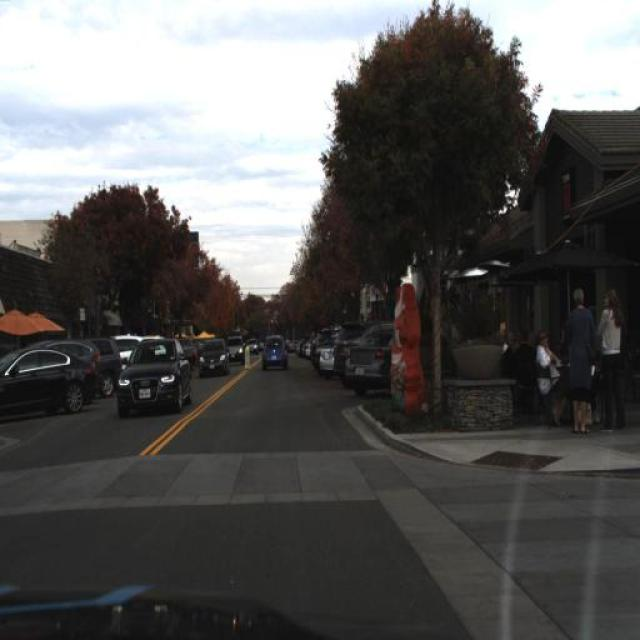car: (0, 344, 99, 417), (114, 334, 192, 418), (340, 322, 398, 400), (346, 316, 392, 400), (197, 338, 232, 378), (258, 334, 290, 374), (228, 331, 246, 370)
trafficLight: (563, 284, 597, 435), (595, 284, 624, 436), (529, 328, 570, 424)
